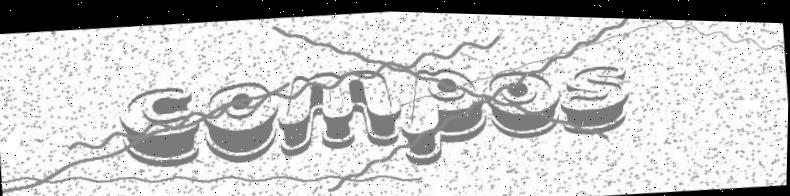c: (116, 82, 204, 172)
m: (273, 61, 406, 159)
o: (199, 77, 284, 166), (485, 63, 564, 140)
p: (396, 59, 493, 166)
s: (556, 58, 635, 135)
